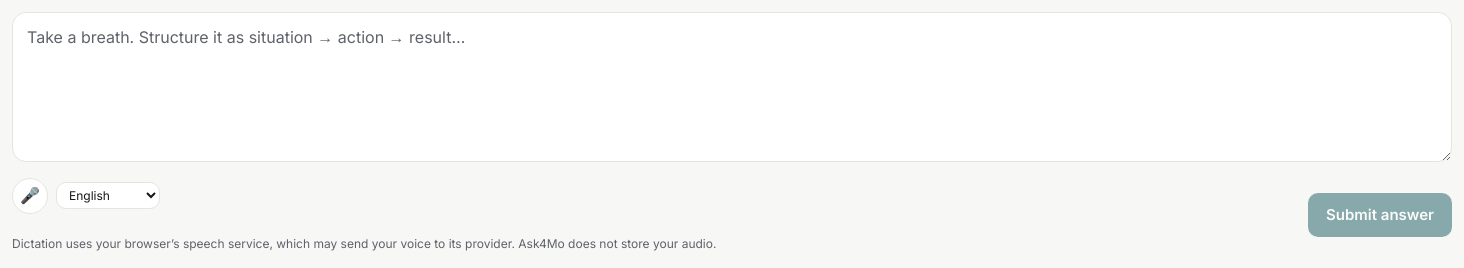
Scenario: Surface 2 — Practice (InterviewAnswerComposer) › preserves manually typed text when dictation is added
In the text box named "Your answer": point(732, 87) [12,12,1452,162], type "typed first."
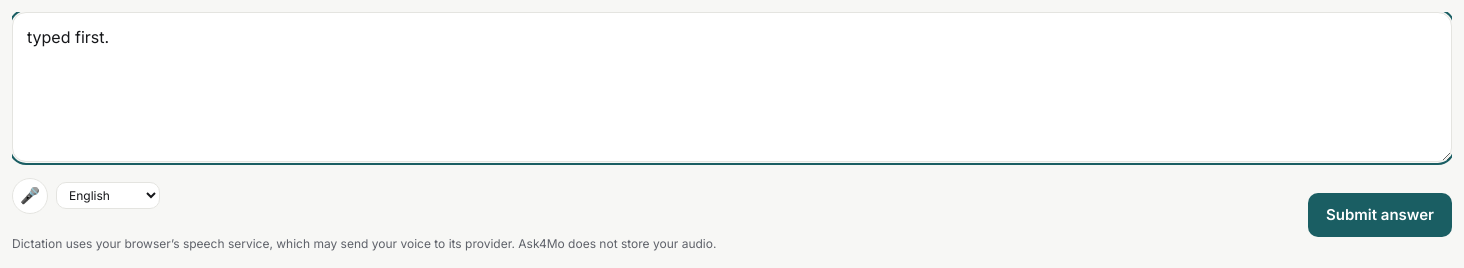
Click the button named "Start dictation": point(30, 196) [12,178,48,214]
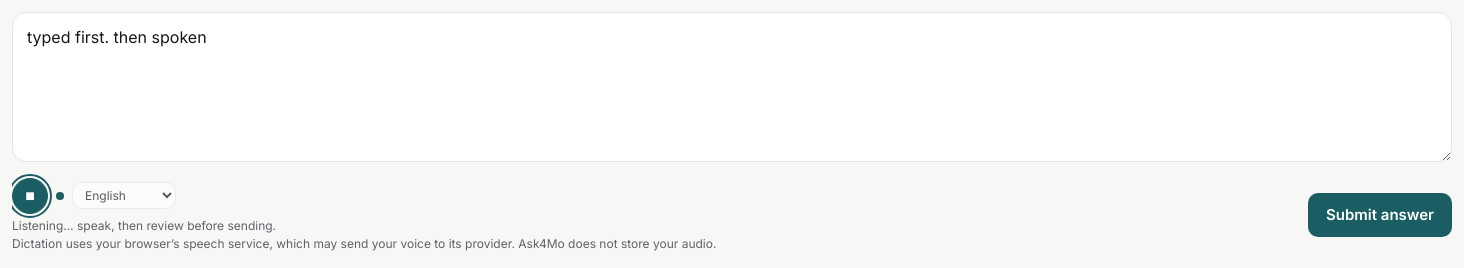
Result: the text box named "Your answer" holds "typed first. then spoken" at [12,12,1452,162]
